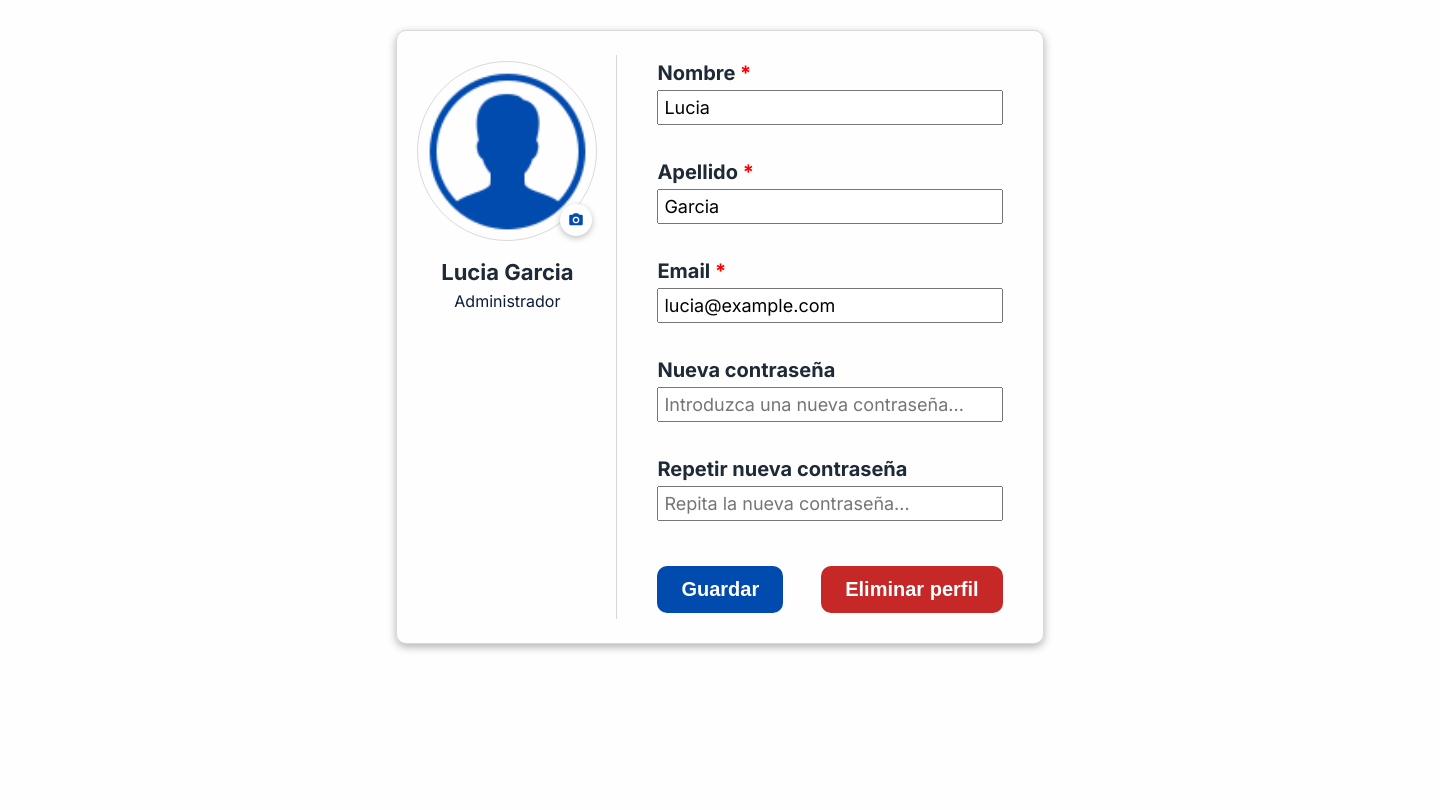
it: ProfileForm component test suite › closes blocked popup when clicking the overlay
Click the button "Eliminar perfil": [912, 590] box left=821, top=566, right=1003, bottom=613
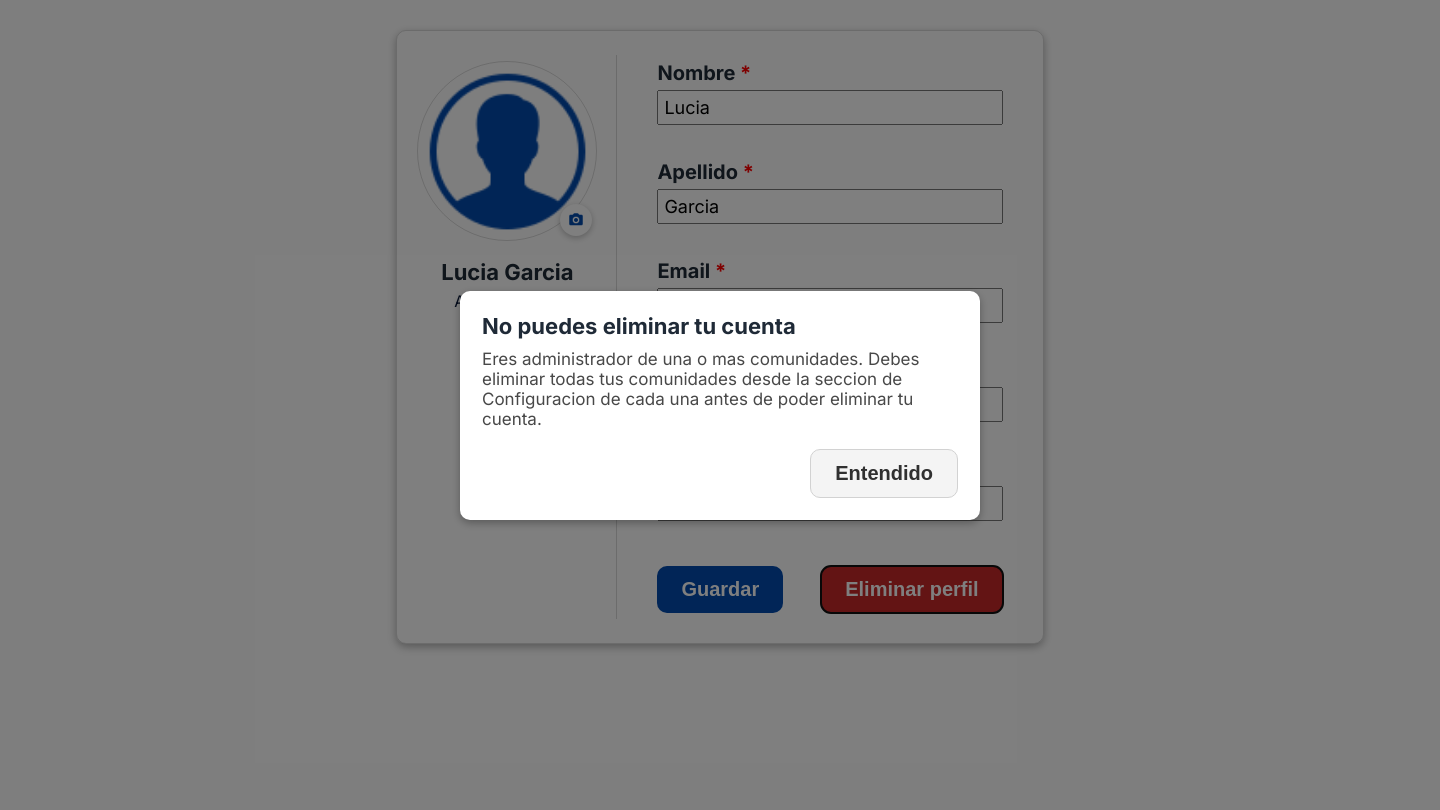
Click the element that starts with "No puedes eliminar tu cuenta": [86, 405] box left=0, top=0, right=1439, bottom=809
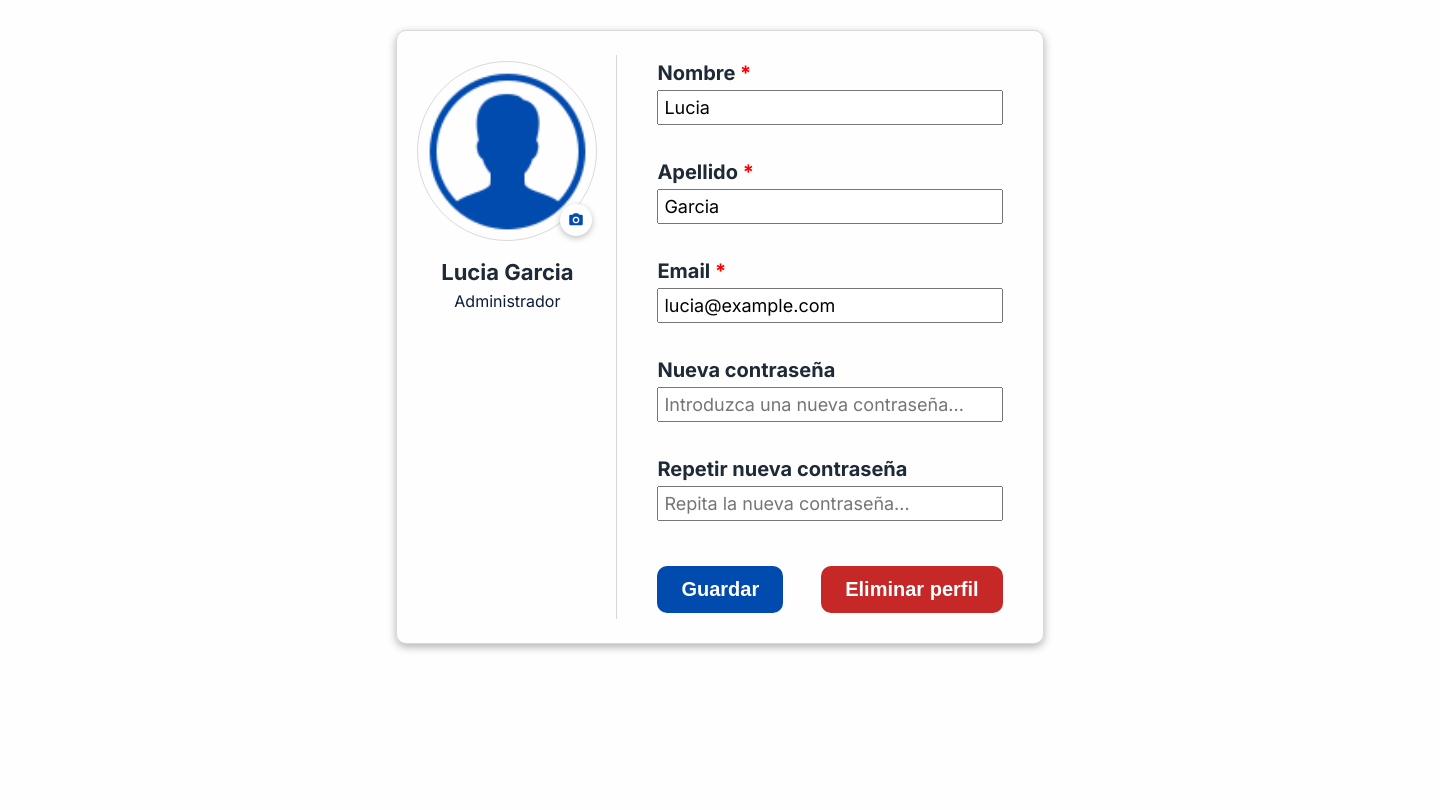
Check: the heading "No puedes eliminar tu cuenta" is gone
